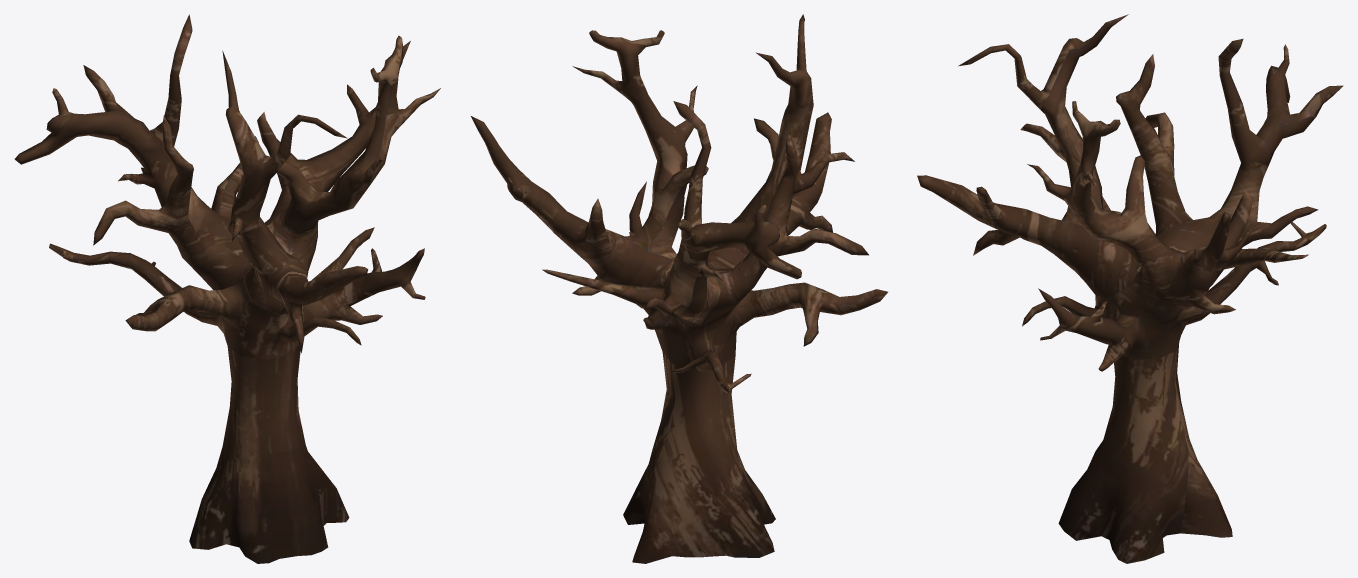
3 views of the same model, side by side, from view 1: azimuth 30°, elevation 25°; view 2: azimuth 150°, elevation 25°; view 3: azimuth 270°, elevation 25° (orthographic).
Parts seen in each view (by area): view 1: body0_model0_lod0_mesh0; view 2: body0_model0_lod0_mesh0; view 3: body0_model0_lod0_mesh0.
Boxes of the visible parts, <box> form: body0_model0_lod0_mesh0: <box>14,14,440,563</box>; body0_model0_lod0_mesh0: <box>471,14,887,563</box>; body0_model0_lod0_mesh0: <box>917,14,1343,563</box>.
Size of the model in its own units: 439 by 570 by 450.
1 material, 1 textured.
